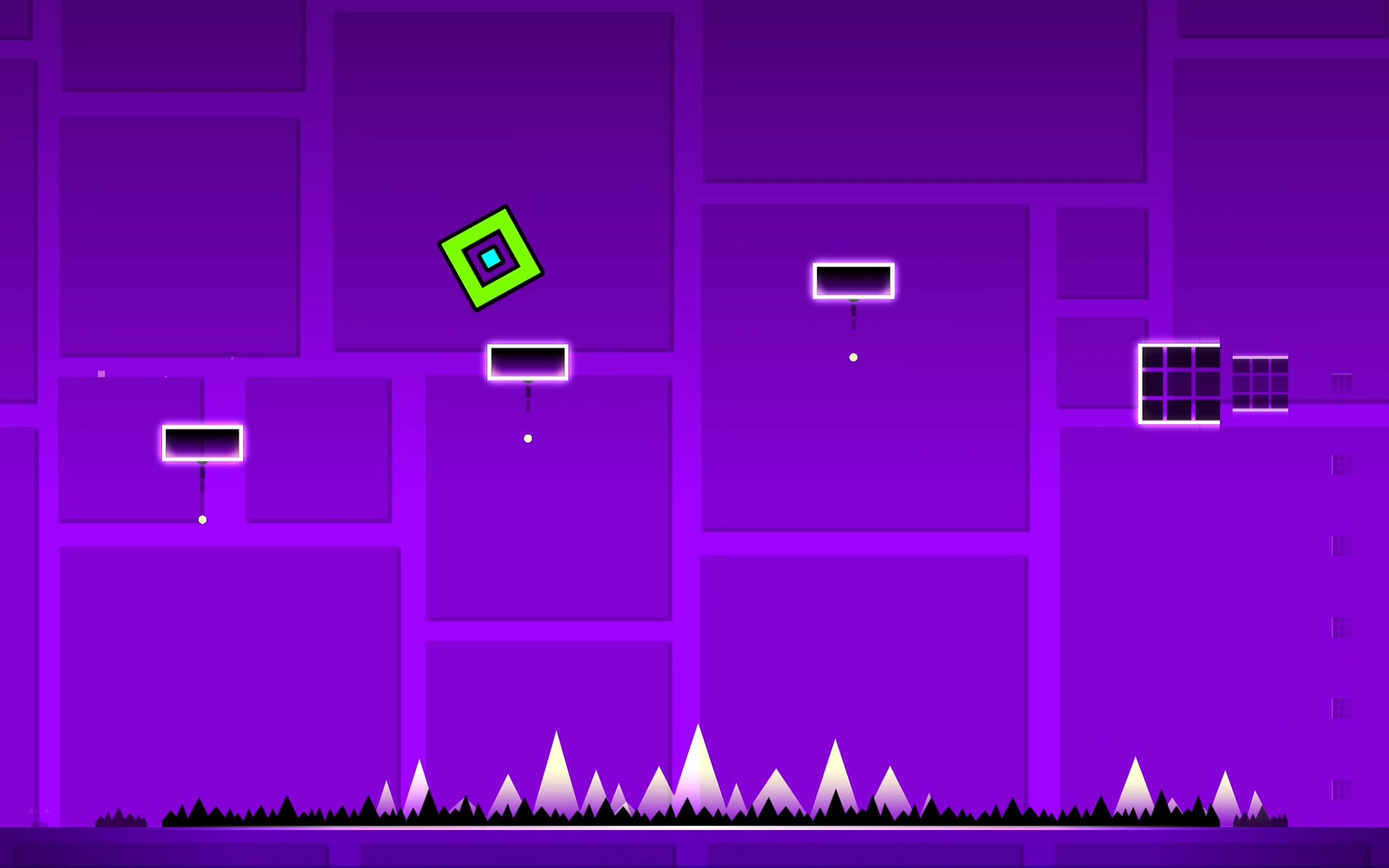Block2: (1134, 339, 1294, 423)
Block3: (812, 262, 895, 304), (487, 344, 568, 383), (161, 425, 243, 463)
Player: (439, 206, 543, 309)
Spike3: (85, 777, 1299, 835)
